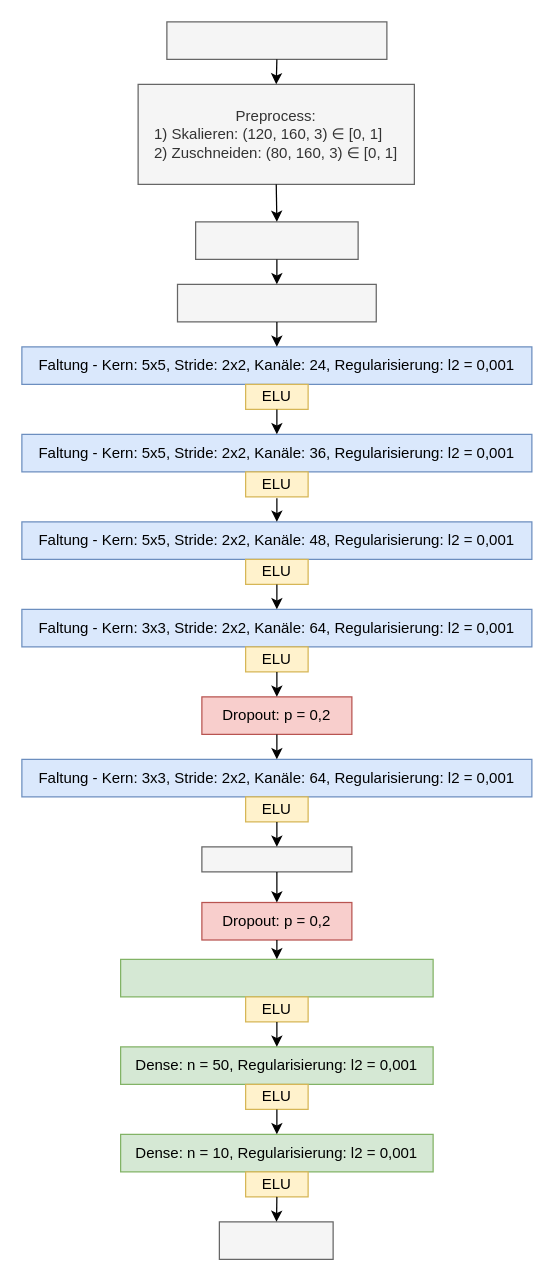
This 554x1281 diagram has some shape labels left out. The centre of each missing label's shape, as x and y in pixels:
Bild:(480, 640, 3) ∈ [0, 255]: the point at 276,40
Dense: n = 100, Regularisierung: l2 = 0,001: the point at 276,977
Flatten: the point at 276,859
Input: (80,160, 3): the point at 276,240
Normalisierung: µ = 0, σ = 1: the point at 276,302
Output: the point at 275,1240
